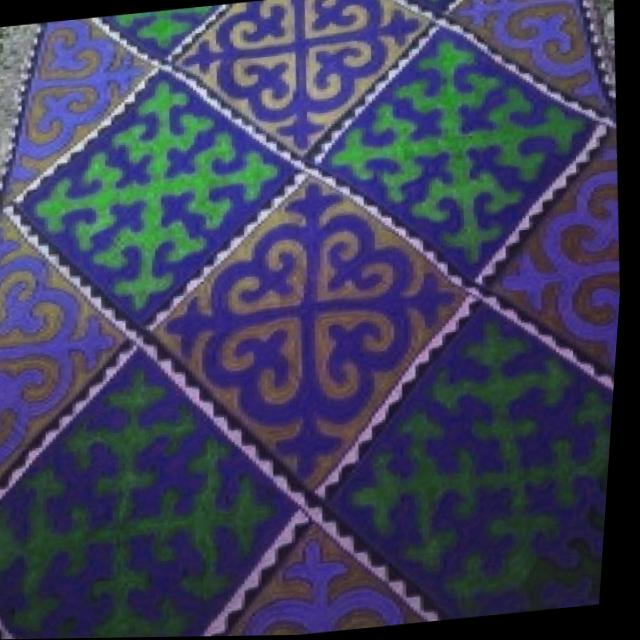Unity: (159, 177, 470, 485), (165, 0, 436, 150), (0, 210, 136, 482), (493, 132, 617, 398), (0, 18, 156, 210), (452, 0, 613, 127)
